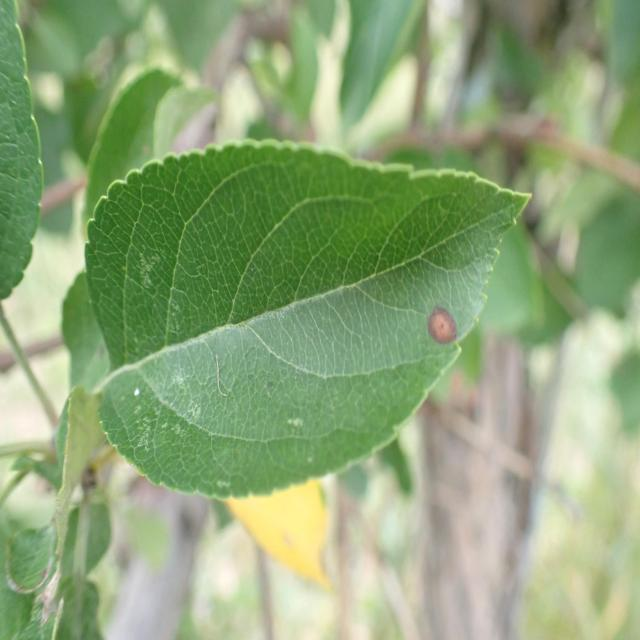frog-eye-leaf-spot: (84, 138, 533, 501)
